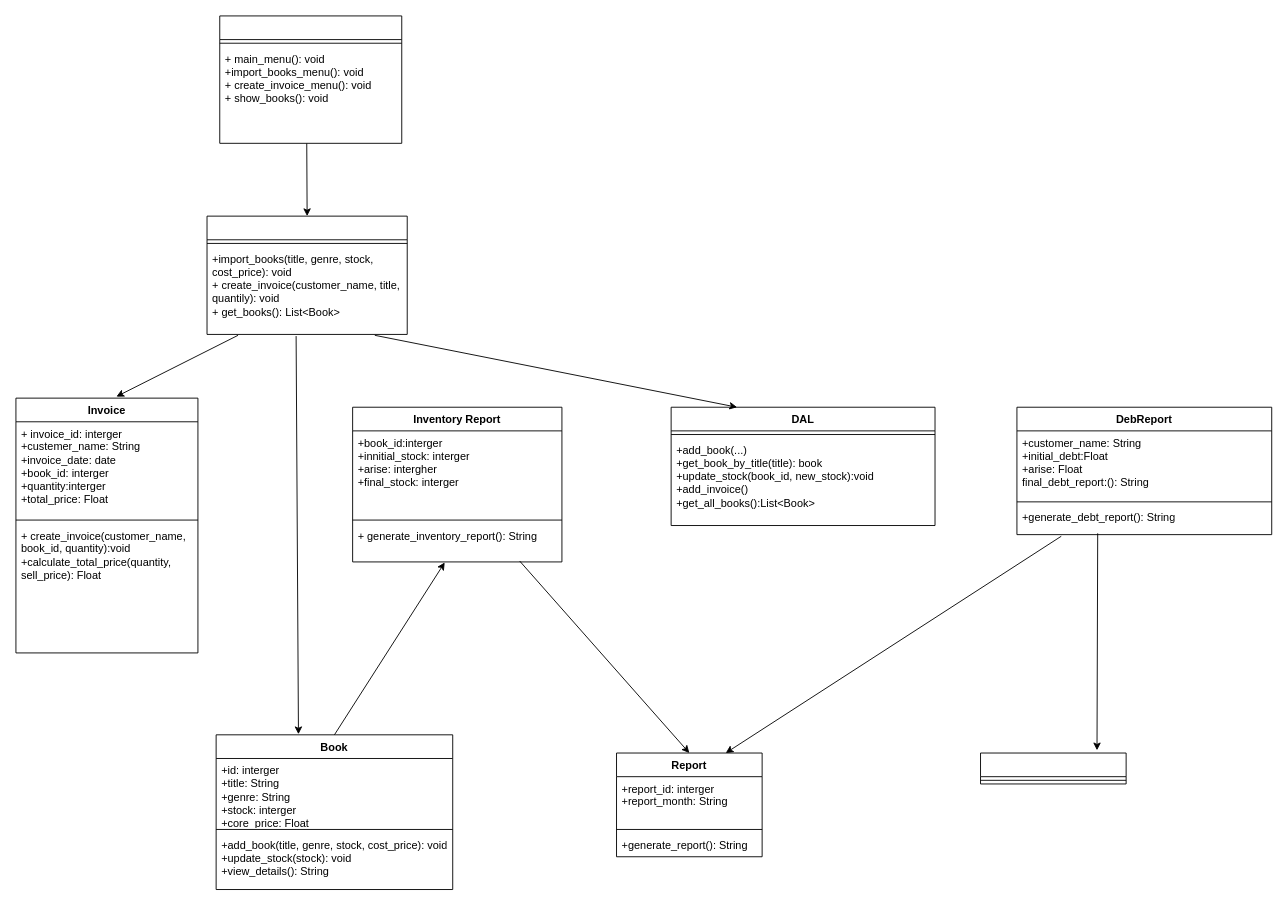
The diagram is 1288 pixels wide and 908 high, and some of its shapes have lost their labels. The shapes that lost their labels are listed below. From the top down, each one's box as (x1, y1, x2, y2) in pixels, then its label:
(219, 15, 402, 143): BookstoreApp
(206, 215, 407, 334): BookstoreService
(980, 752, 1126, 784): customer
